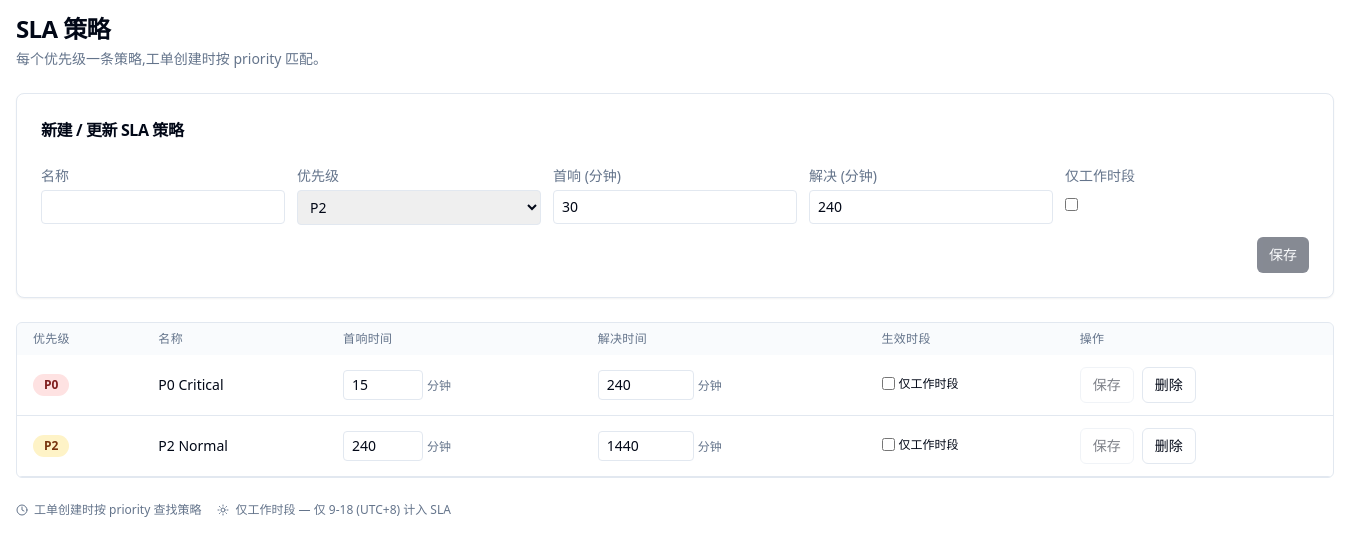
Test: AdminSlaPoliciesPage mutations (Tier 2 Task 2.1) › disables the create submit until a name is entered
Click the field with test id "sla-policy-create-name".
click(163, 207)  # box [41,190,285,224]
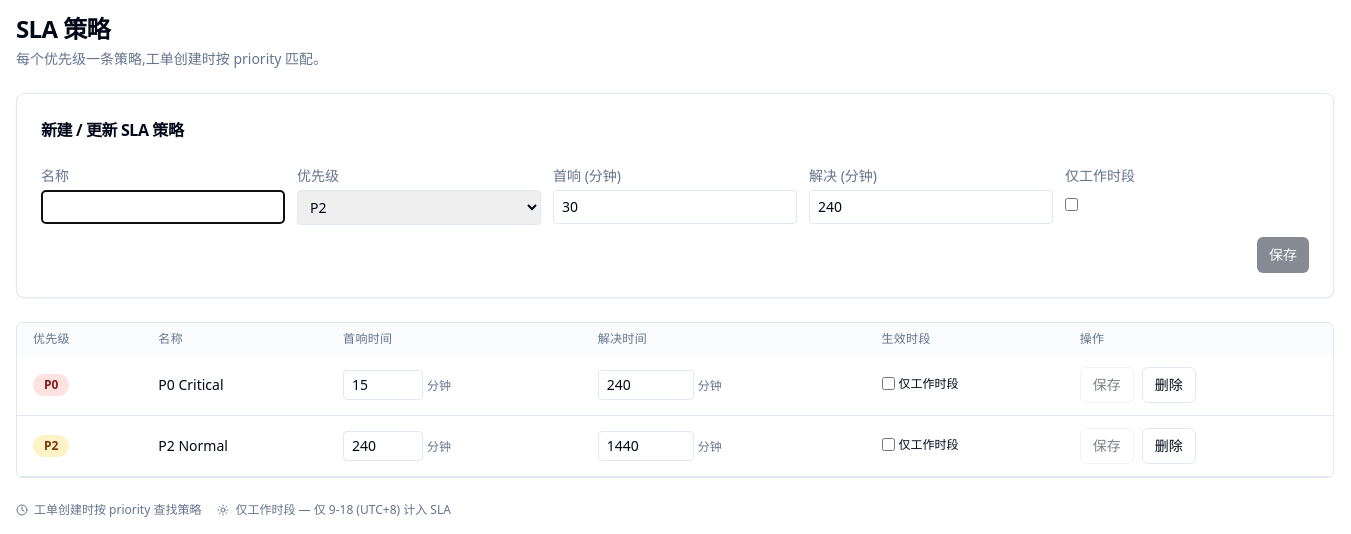
expect the button with test id "sla-policy-create-submit" is disabled: met, box [1257,237,1309,273]
Type "P1 High" into the field with test id "sla-policy-create-name".
click(163, 207); type("P1 High")  # box [41,190,285,224]
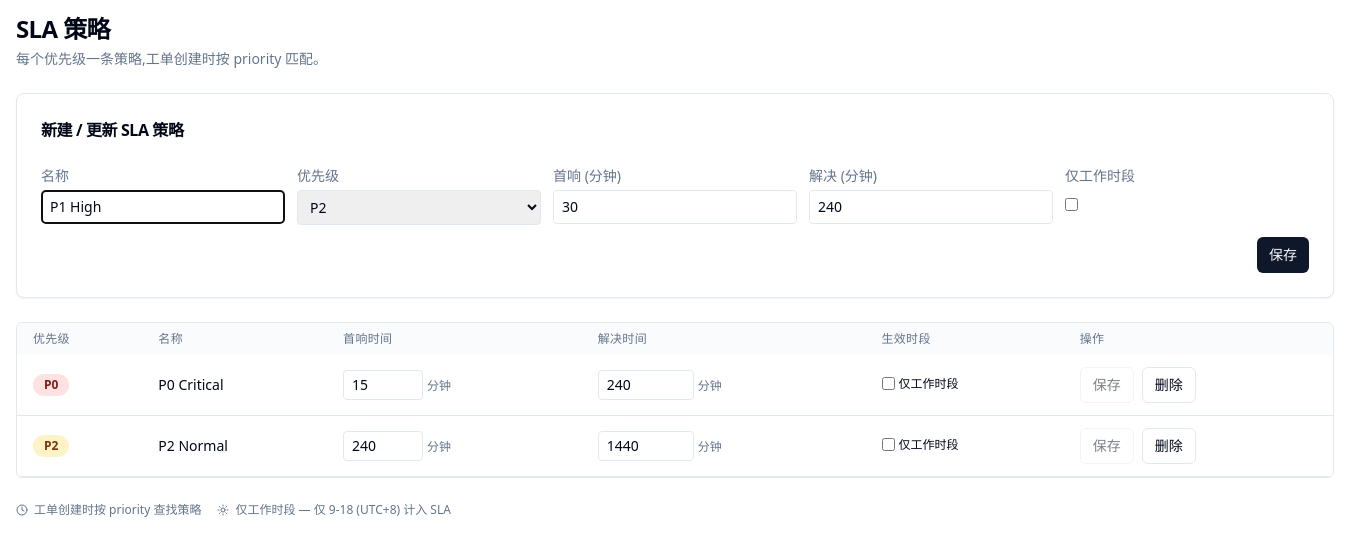
expect the button with test id "sla-policy-create-submit" is enabled: met, box [1257,237,1309,273]
